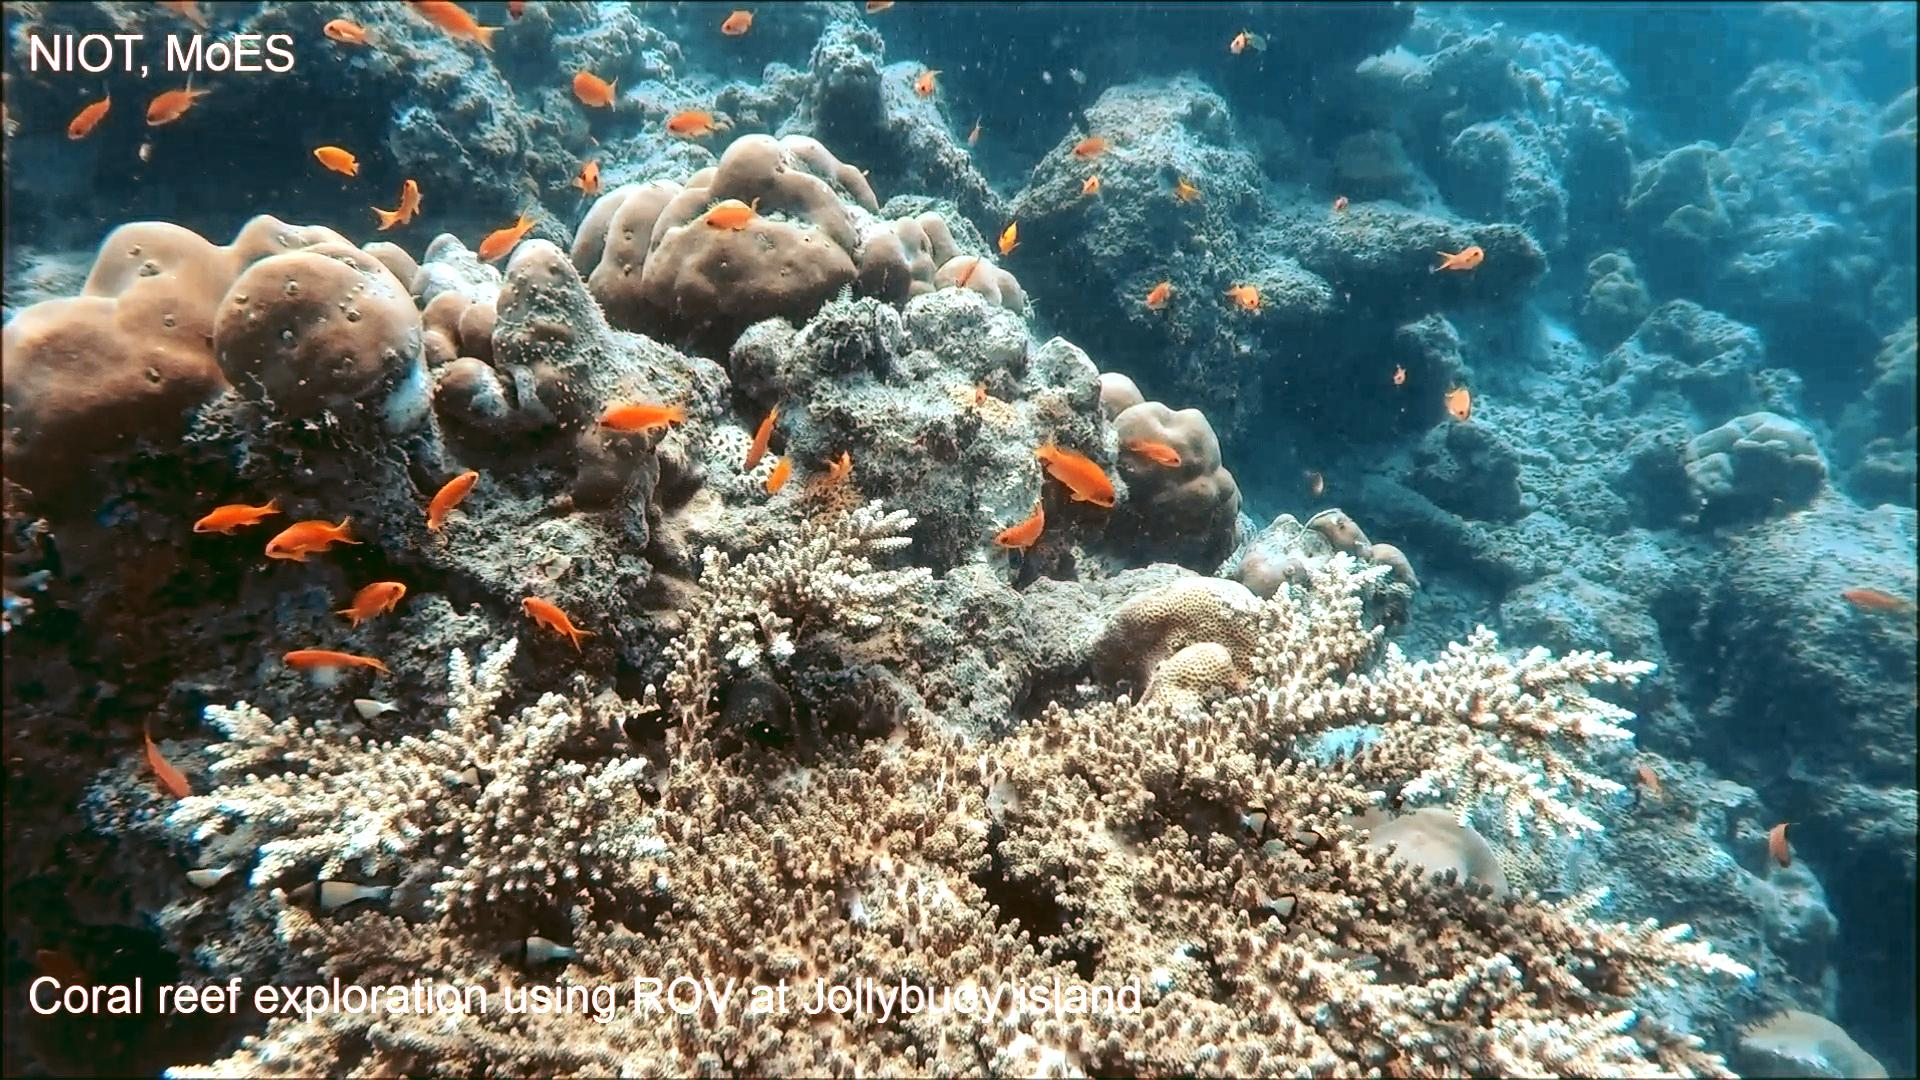Porites-Porites pukoensis: (0, 208, 426, 495), (562, 127, 920, 334)
